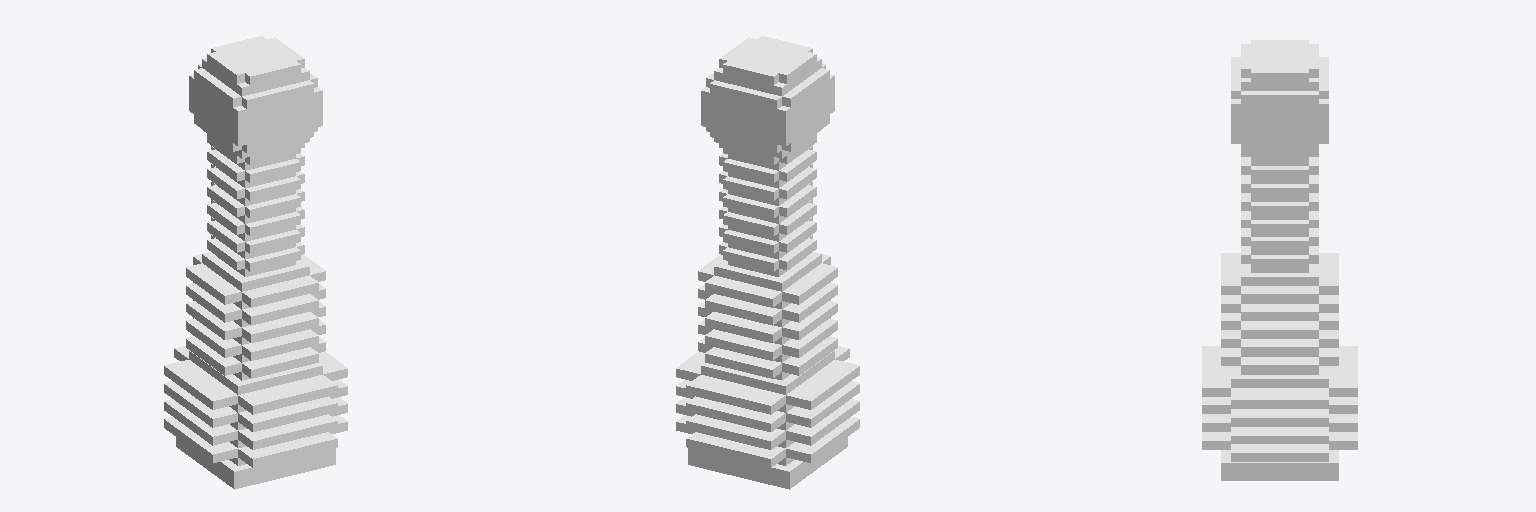
The model's file is Robot_Alpha-2-1.obj.
The picture shows the model from 3 angles: view 1: azimuth 30°, elevation 25°; view 2: azimuth 150°, elevation 25°; view 3: azimuth 270°, elevation 25°; orthographic projection.
Visible parts, largest first — view 1: object 1; view 2: object 1; view 3: object 1.
Boxes of the visible parts, <box> form: object 1: <box>164,36,347,489</box>; object 1: <box>676,36,859,489</box>; object 1: <box>1202,40,1357,480</box>.
Size of the model in its own units: 1.6 by 4.5 by 1.6.